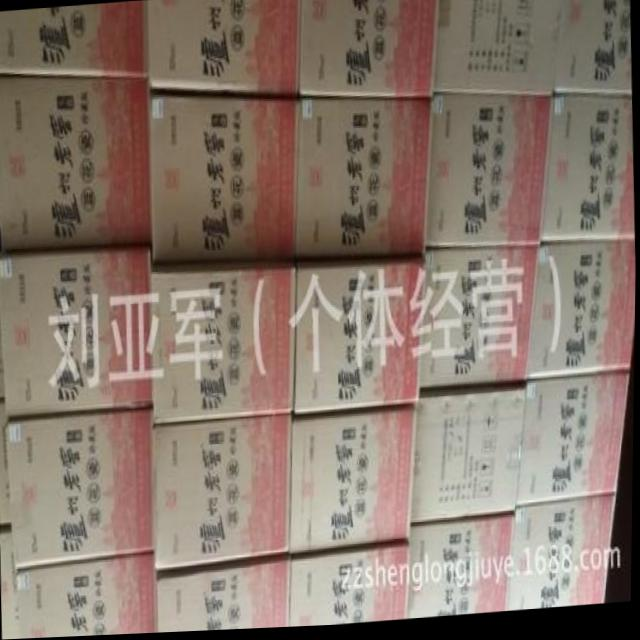box: (0, 76, 151, 254), (147, 86, 298, 260), (2, 246, 154, 418), (153, 259, 295, 431), (8, 403, 154, 566), (294, 98, 432, 261), (155, 415, 293, 570), (294, 256, 425, 417), (425, 98, 555, 252), (290, 406, 420, 558), (421, 248, 540, 397), (515, 372, 631, 515), (412, 392, 527, 532), (146, 0, 301, 99), (529, 246, 636, 388), (298, 0, 439, 101), (541, 96, 634, 246), (431, 0, 563, 96), (508, 501, 617, 615), (19, 550, 157, 639), (0, 3, 146, 78), (410, 519, 514, 622), (291, 545, 413, 630), (156, 562, 292, 634), (554, 0, 632, 97), (1, 531, 23, 640), (0, 403, 14, 523)
